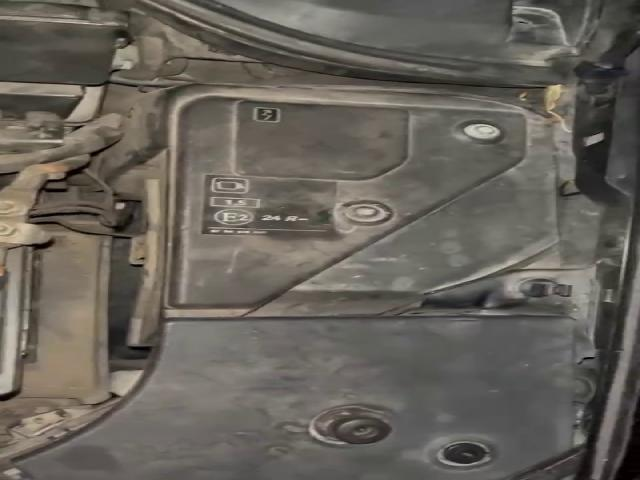fuse_box: (86, 82, 576, 344)
